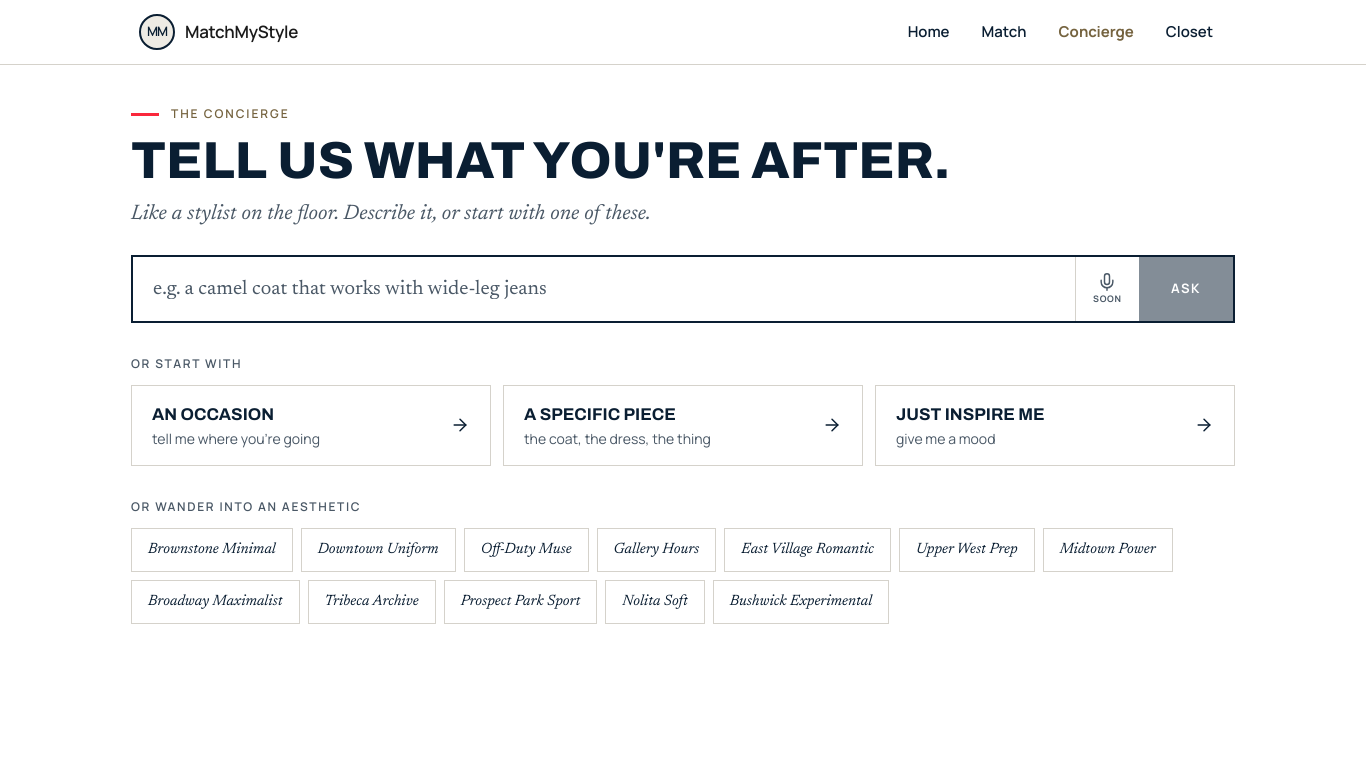
aesthetic look fallback › drops a piece that stays empty after the retry and says so
The width and height of the screenshot is (1366, 768).
Click the button "Gallery Hours" at (656, 550), box [597,528,716,572]
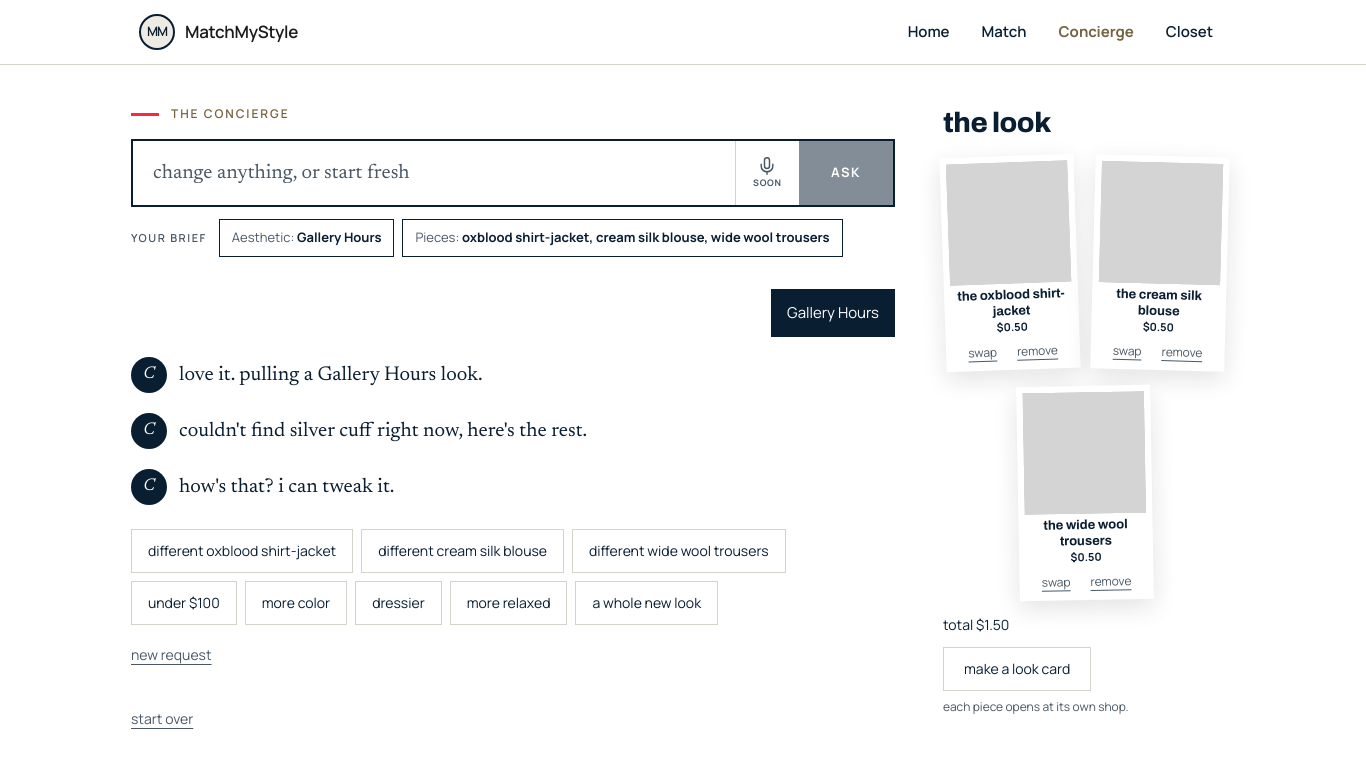
Expected: the text "couldn't find silver cuff right now, here's the rest." is shown, [178,420,587,440]
